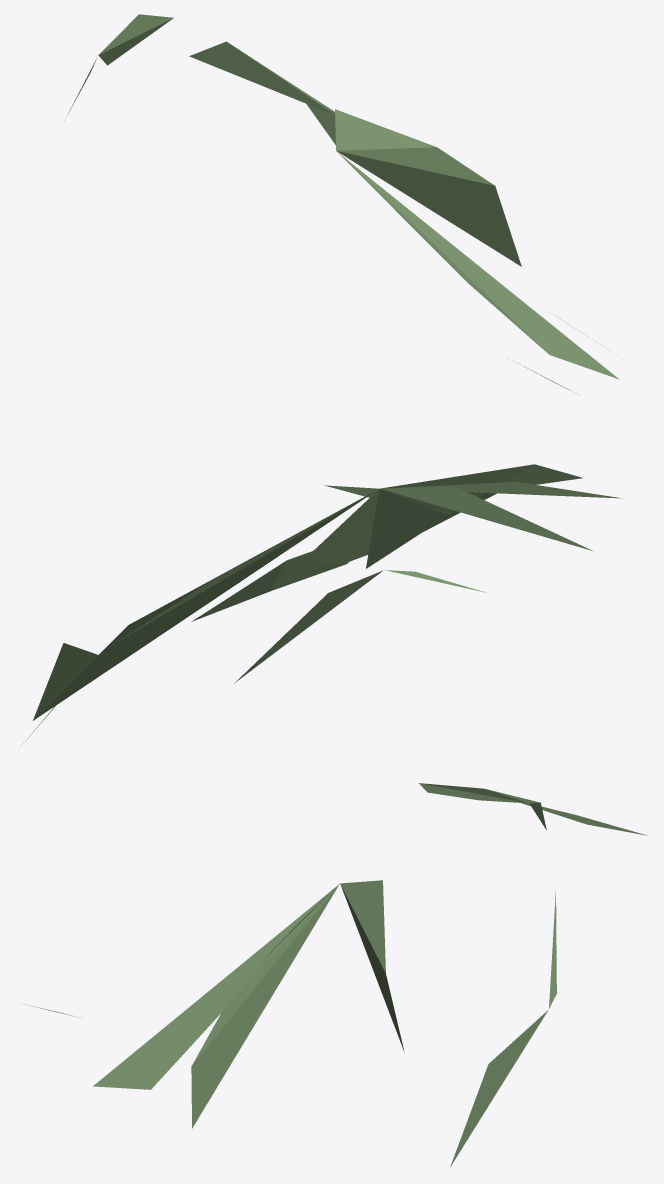
The model's file is c_1663_17819_parks.glb.
3 renders of one model, top to bottom at view 1: azimuth 30°, elevation 25°; view 2: azimuth 150°, elevation 25°; view 3: azimuth 270°, elevation 25°, orthographic. The views are drawn at different scales.
Visible parts, largest first — view 1: geometry_0; view 2: geometry_0; view 3: geometry_0.
Boxes of the visible parts, x1,y1,x2,y2 form: geometry_0: [64, 14, 619, 390]; geometry_0: [21, 464, 623, 745]; geometry_0: [23, 783, 648, 1166].
Size of the model in its own units: 102 by 61.22 by 145.
